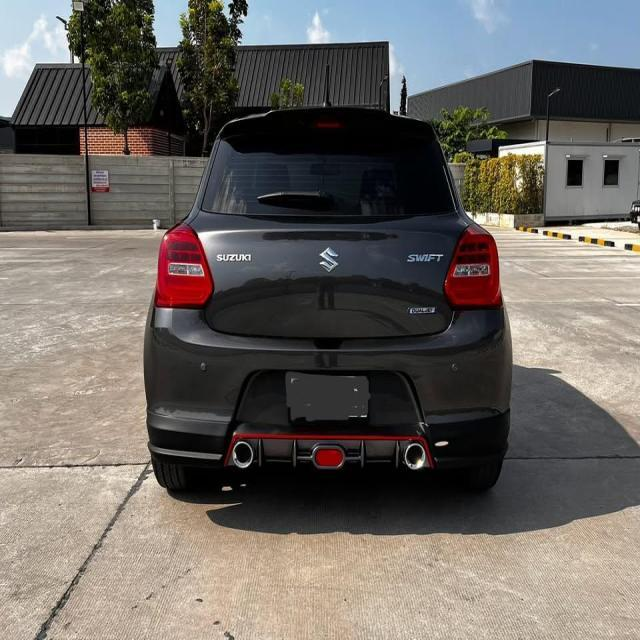Hatchback: (143, 108, 514, 498)
